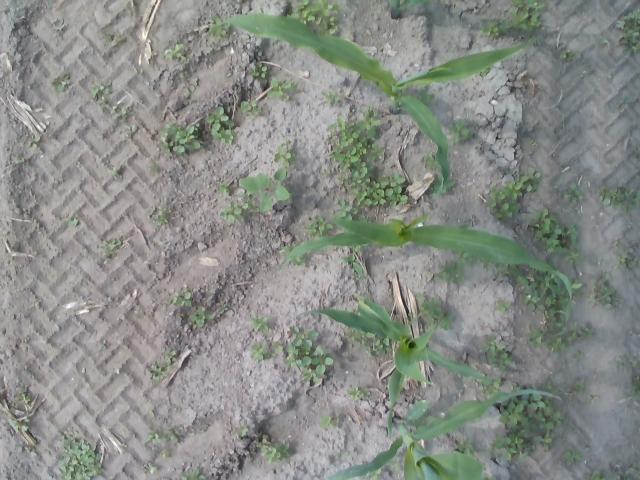Maize: (212, 14, 536, 194), (278, 211, 573, 324), (295, 297, 502, 441), (327, 387, 561, 480), (388, 0, 432, 20)
Weeds: (321, 104, 410, 208), (528, 276, 596, 350), (492, 402, 566, 461), (526, 205, 583, 265), (486, 166, 544, 222), (90, 81, 141, 143), (286, 324, 335, 386), (480, 0, 546, 39), (239, 168, 292, 214), (57, 431, 106, 480), (286, 0, 341, 34), (500, 264, 540, 310), (155, 122, 207, 156), (417, 293, 456, 332), (587, 270, 624, 308), (205, 105, 237, 145), (614, 8, 640, 56), (597, 184, 639, 213), (482, 336, 512, 372), (254, 435, 290, 462), (188, 306, 230, 328), (434, 258, 464, 284), (268, 77, 296, 103), (220, 201, 250, 225), (272, 138, 296, 168), (237, 98, 266, 122), (448, 118, 472, 145), (342, 252, 364, 281), (208, 14, 232, 40), (306, 214, 332, 237), (146, 430, 180, 446), (612, 250, 638, 270), (98, 240, 124, 260), (364, 338, 391, 357), (51, 72, 74, 94), (165, 290, 193, 308), (606, 95, 630, 116), (150, 206, 172, 228), (336, 200, 359, 220), (564, 182, 585, 203), (164, 43, 187, 62), (455, 436, 477, 455), (248, 342, 268, 362), (320, 88, 342, 106), (180, 466, 207, 480), (346, 328, 373, 342), (146, 364, 168, 381), (146, 155, 162, 178), (478, 380, 504, 394), (347, 385, 373, 399), (320, 412, 340, 430), (415, 87, 435, 105), (422, 154, 440, 172), (216, 178, 232, 197), (106, 33, 127, 47), (26, 134, 44, 150), (163, 347, 178, 366), (111, 163, 126, 182), (494, 298, 514, 312), (251, 61, 268, 77), (626, 461, 640, 480), (14, 388, 30, 404), (631, 374, 640, 402), (564, 448, 582, 462), (234, 424, 252, 438), (251, 316, 269, 330), (459, 253, 478, 266), (572, 376, 587, 392), (66, 218, 85, 230), (588, 470, 610, 480), (10, 420, 27, 432), (615, 356, 628, 371), (546, 380, 562, 391), (146, 462, 160, 474), (270, 340, 284, 352), (10, 154, 24, 166), (562, 50, 576, 62), (24, 446, 38, 457), (368, 471, 384, 480), (598, 36, 610, 48), (588, 394, 601, 405), (480, 258, 490, 272), (294, 256, 308, 266), (392, 460, 401, 474), (631, 359, 640, 370), (632, 144, 640, 156), (280, 245, 290, 254), (162, 448, 170, 459), (592, 258, 602, 266), (480, 70, 490, 78), (574, 350, 582, 358), (612, 241, 620, 248), (530, 140, 538, 147), (606, 157, 614, 162)
